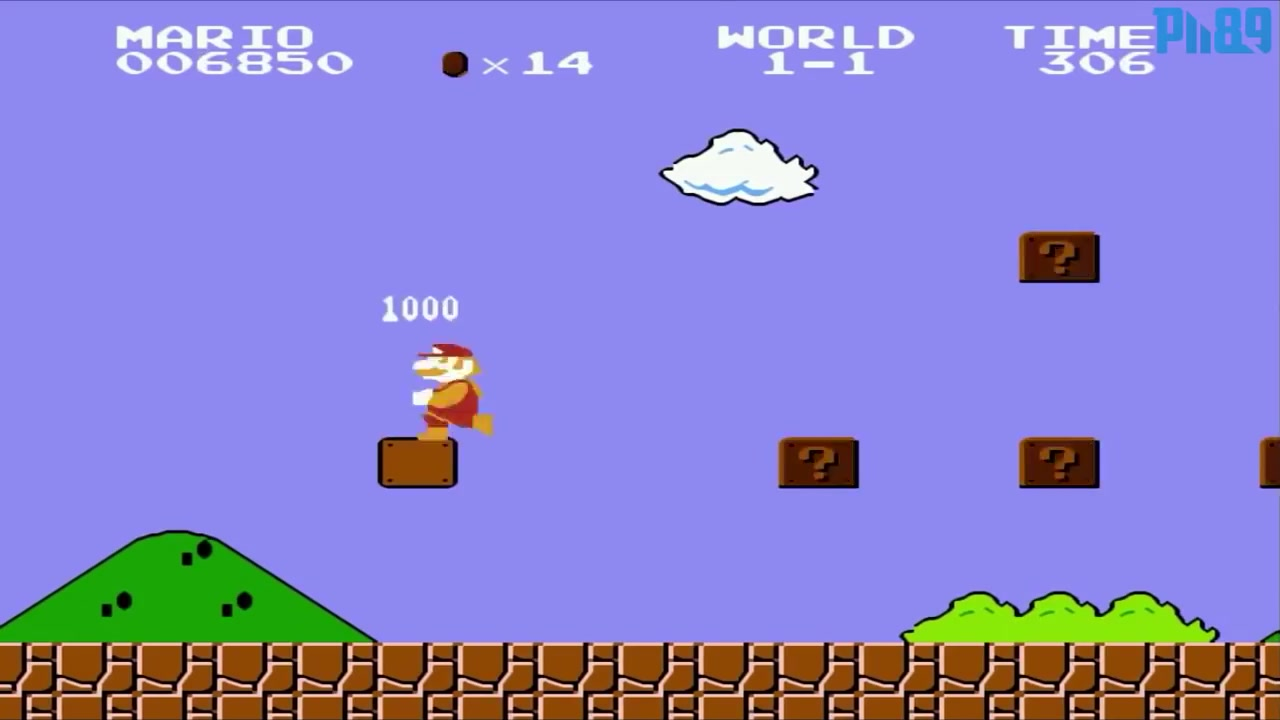mario: (405, 335, 494, 448)
